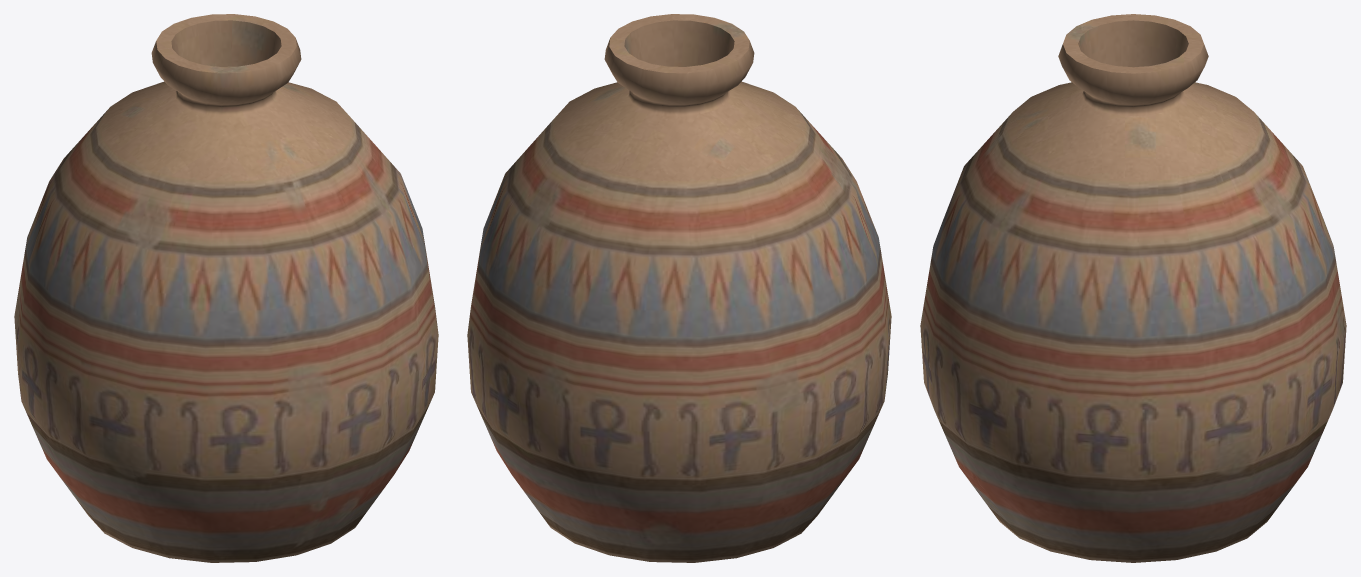
Rendered from pot_4.fbx.
3 views of the same model, side by side, from view 1: azimuth 30°, elevation 25°; view 2: azimuth 150°, elevation 25°; view 3: azimuth 270°, elevation 25° (orthographic).
Visible parts, largest first — view 1: pot_4; view 2: pot_4; view 3: pot_4.
Part boxes in pixels (bbox=[...]): pot_4: bbox=[14, 14, 438, 562]; pot_4: bbox=[467, 14, 891, 562]; pot_4: bbox=[920, 14, 1346, 562].
Size of the model in its own units: 86.98 by 104 by 86.98.
Materials: 1 (1 with a texture image).
